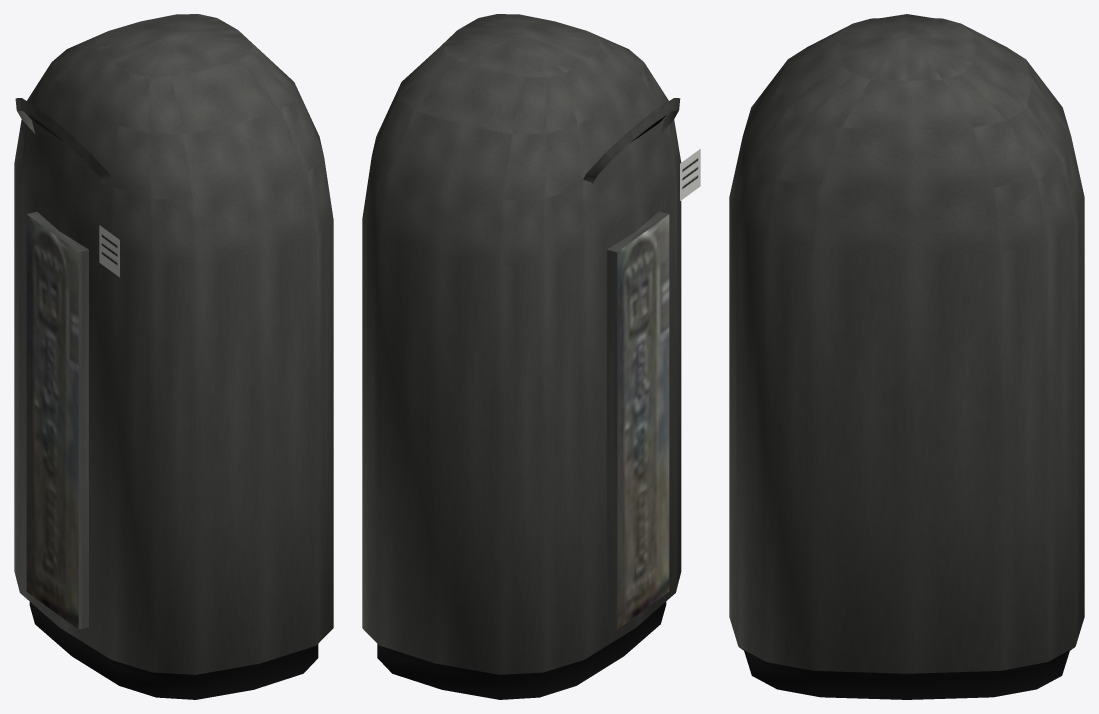
The model's file is SM_Morin_Cestino_v2_LOD1.fbx.
3 views of the same model, side by side, from view 1: azimuth 30°, elevation 25°; view 2: azimuth 150°, elevation 25°; view 3: azimuth 270°, elevation 25° (orthographic). The views are drawn at different scales.
Visible parts, largest first — view 1: SM_Morin_Cestino_v2_LOD1; view 2: SM_Morin_Cestino_v2_LOD1; view 3: SM_Morin_Cestino_v2_LOD1.
Boxes of the visible parts, x1,y1,x2,y2 form: SM_Morin_Cestino_v2_LOD1: (14,14,333,699); SM_Morin_Cestino_v2_LOD1: (362,14,700,699); SM_Morin_Cestino_v2_LOD1: (729,14,1084,699).
Size of the model in its own units: 41.39 by 50 by 95.
1 material, 1 textured.
